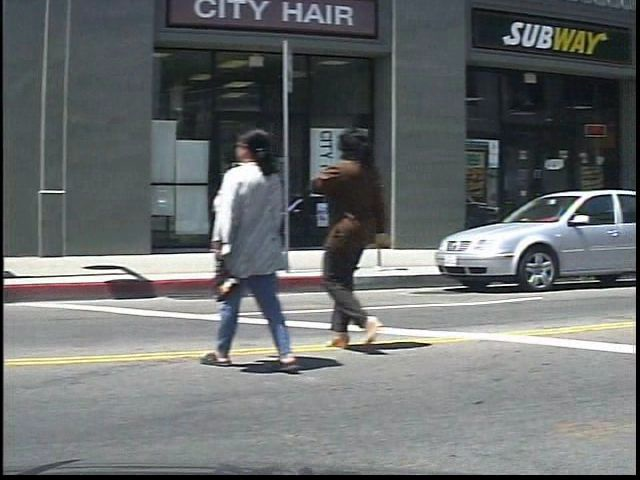person: (214, 122, 313, 373), (321, 121, 412, 355)
